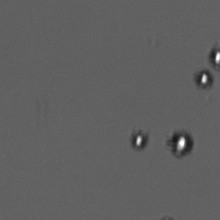Living Cell: (168, 124, 195, 160), (130, 130, 149, 150), (195, 68, 212, 88)
